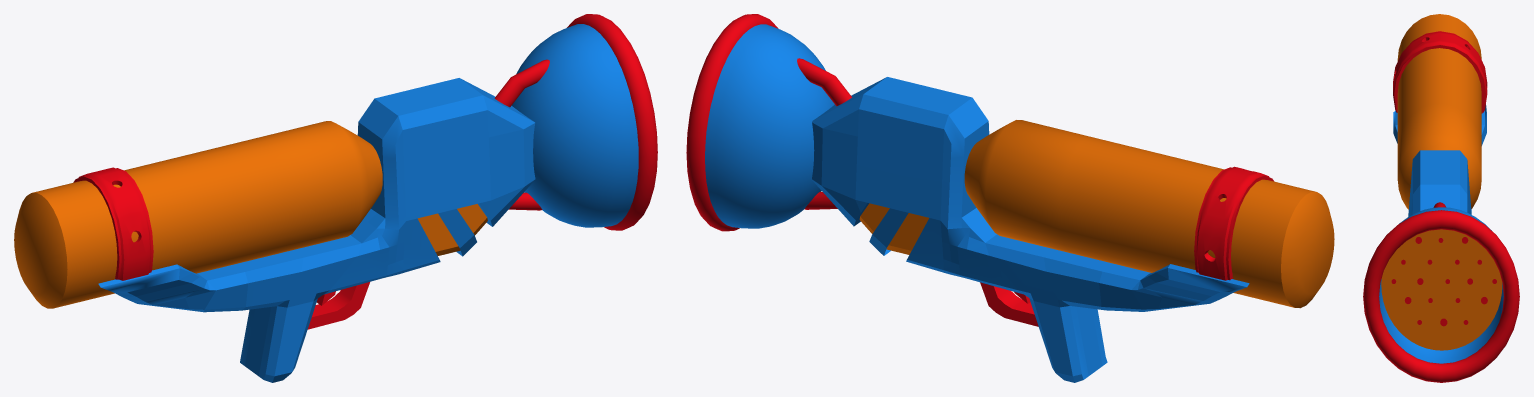
Rendered from GR_supersoaker (1).fbx.
The picture shows the model from 3 angles, left to right: view 1: azimuth 30°, elevation 25°; view 2: azimuth 150°, elevation 25°; view 3: azimuth 270°, elevation 25°; orthographic projection. The views are drawn at different scales.
Parts seen in each view (by area): view 1: Boole.001; view 2: Boole.001; view 3: Boole.001.
Part boxes in pixels (x1=…): Boole.001: x1=14, y1=14, x2=657, y2=382; Boole.001: x1=686, y1=14, x2=1334, y2=382; Boole.001: x1=1363, y1=14, x2=1519, y2=382.
Bounding box in the file's own units: 55.23 × 24.43 × 15.46.
